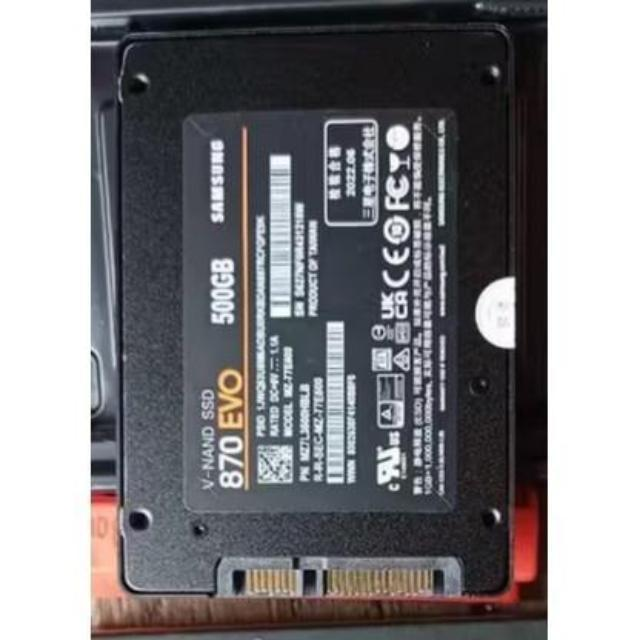DISK: (107, 22, 518, 608)
